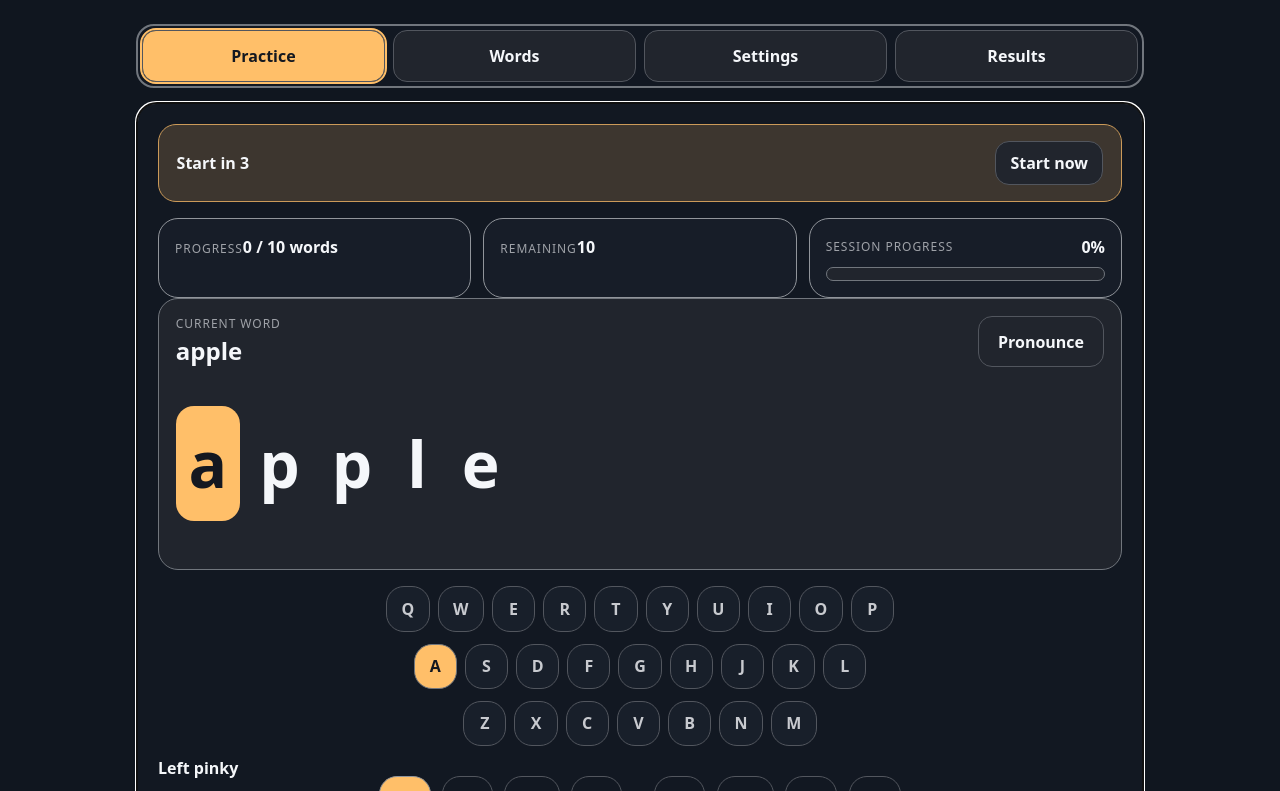
Test: App › highlights search matches and lets the user clear an empty search result
The width and height of the screenshot is (1280, 791).
Click the button "Words" at (514, 56), box 393,30 -> 636,82
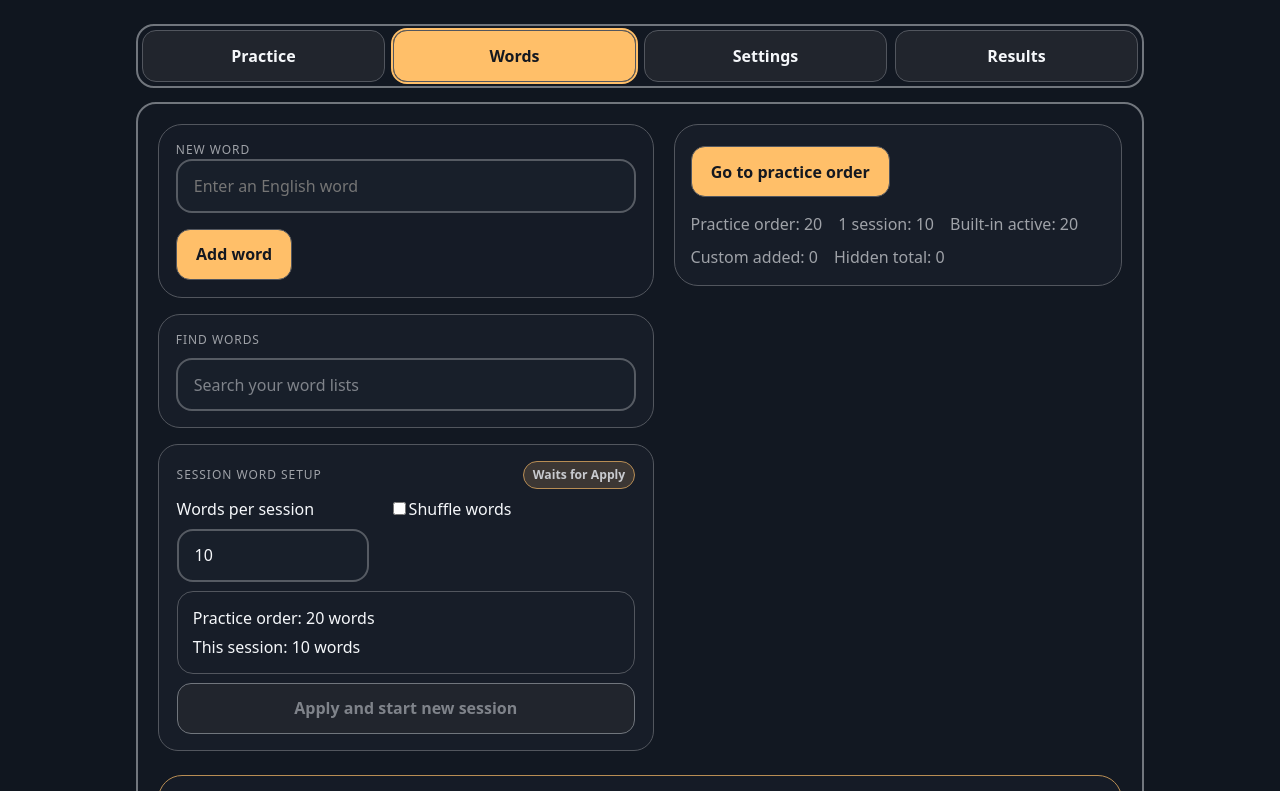
Type "app" into the field with test id "word-search-input" at (406, 385), box 176,358 -> 636,411
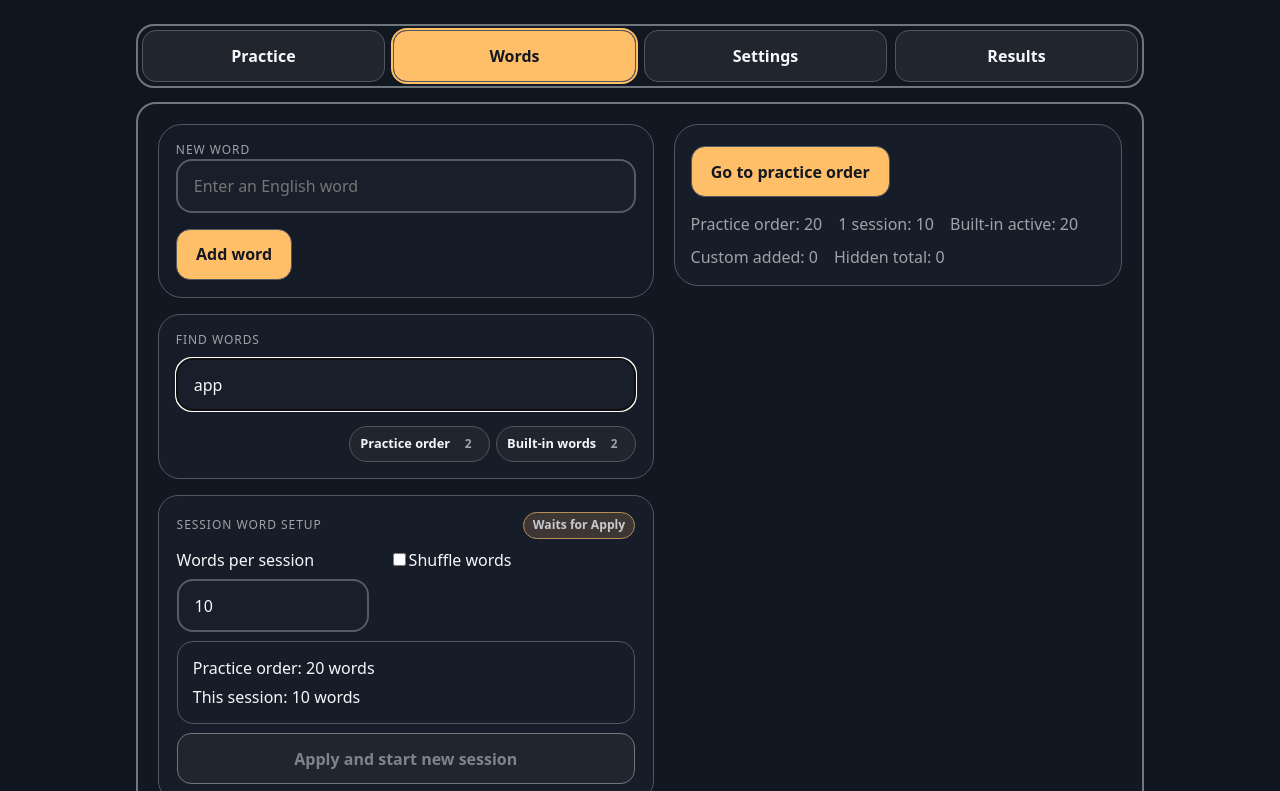
Replace the text in the field with test id "word-search-input" with "zzz" at (406, 385), box 176,358 -> 636,411
(page scrolled)
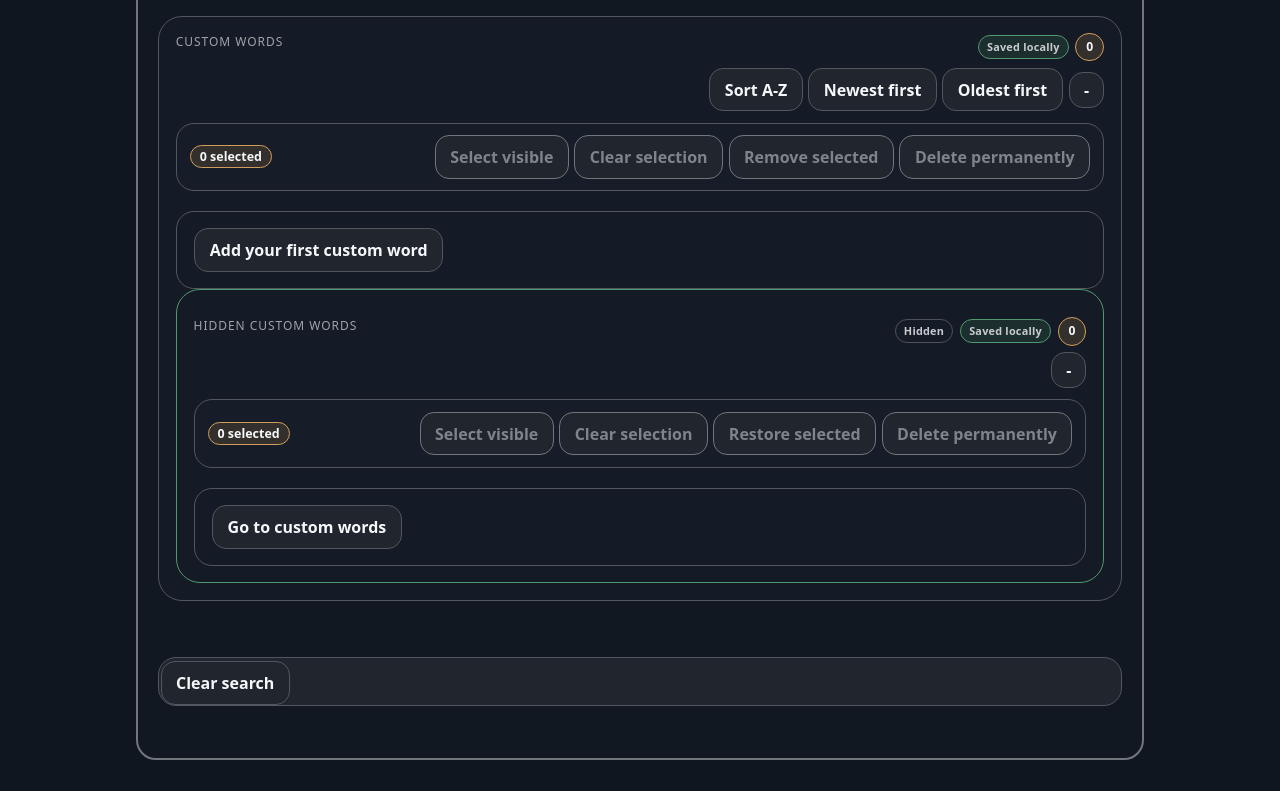
Check: the button with test id "clear-word-search-button" is shown
Click the button with test id "clear-word-search-button" at (225, 683), box 161,661 -> 290,705
(page scrolled)
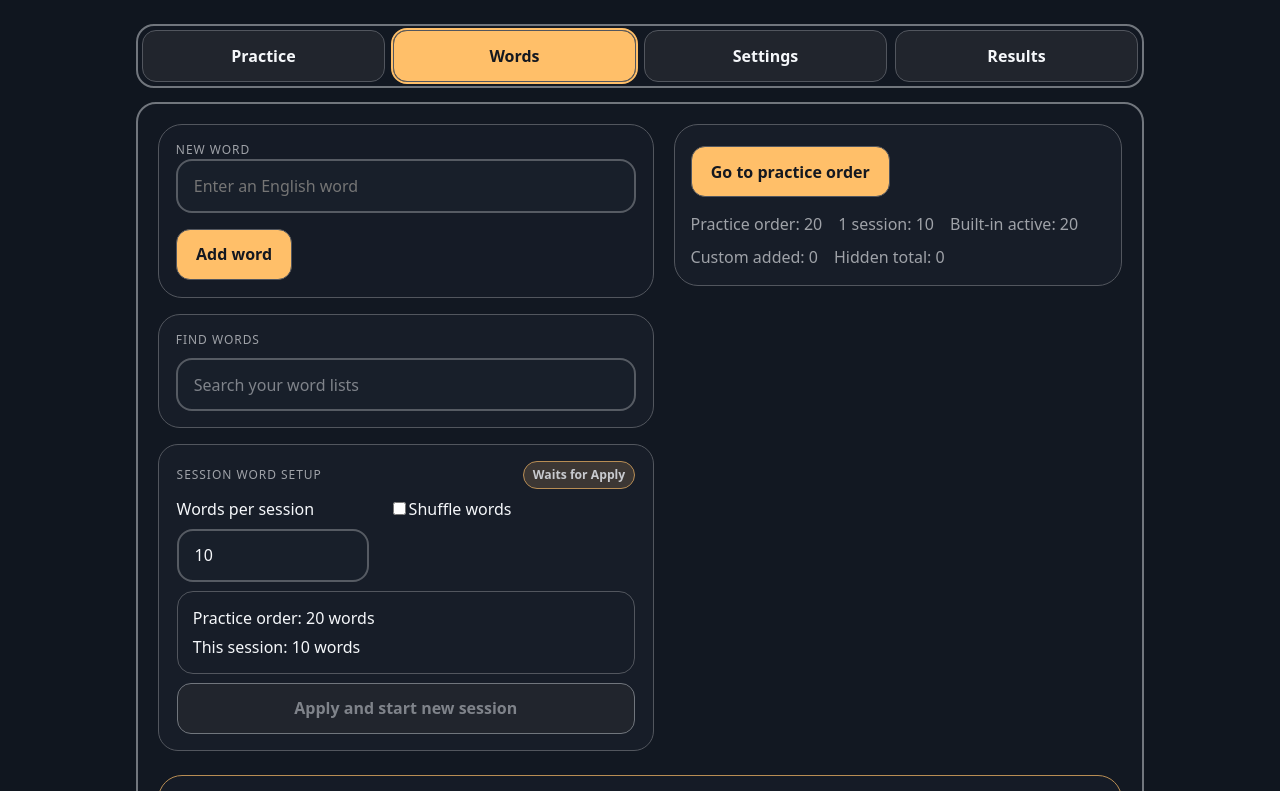
Check: the button with test id "clear-word-search-button" is gone
